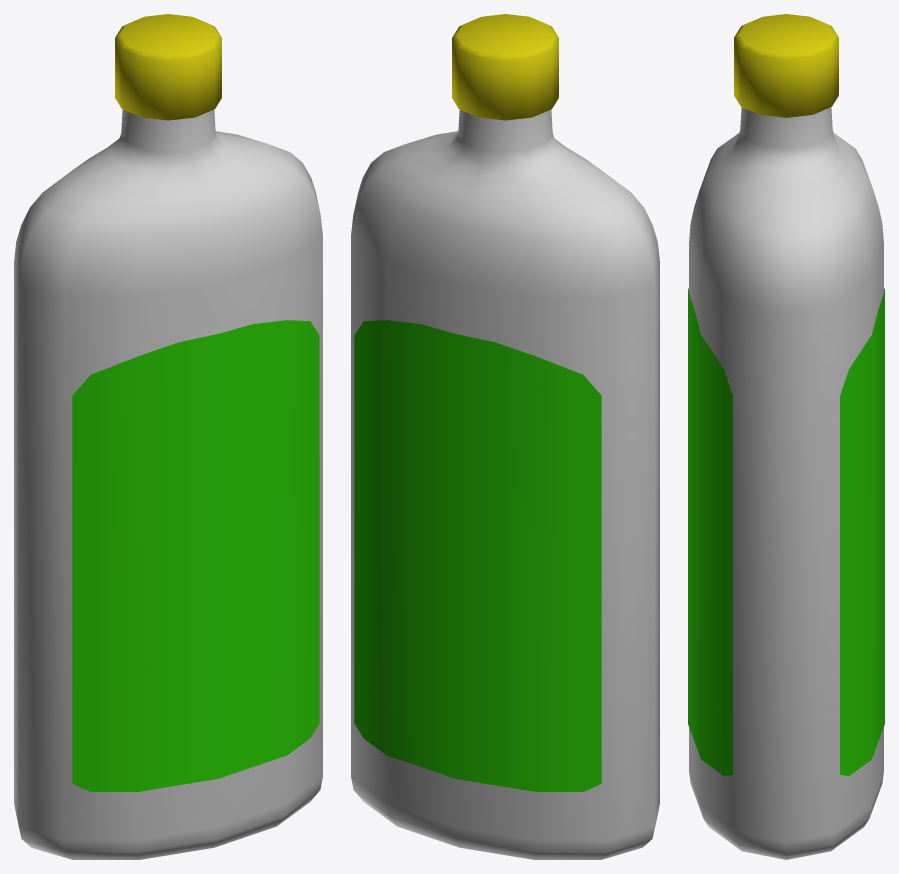
File: BHP_MOD_E_BOT_Herbal_liqueur.fbx
3 renders of one model, left to right at view 1: azimuth 30°, elevation 25°; view 2: azimuth 150°, elevation 25°; view 3: azimuth 270°, elevation 25°, orthographic. The views are drawn at different scales.
Parts seen in each view (by area): view 1: BHP_MOD_E_BOT_Herbal_liqueur; view 2: BHP_MOD_E_BOT_Herbal_liqueur; view 3: BHP_MOD_E_BOT_Herbal_liqueur.
Part boxes in pixels (<box>): BHP_MOD_E_BOT_Herbal_liqueur: <box>14,14,322,859</box>; BHP_MOD_E_BOT_Herbal_liqueur: <box>351,14,659,859</box>; BHP_MOD_E_BOT_Herbal_liqueur: <box>688,14,884,859</box>.
Bounding box in the file's own units: 0.1149 × 0.2865 × 0.0672.
